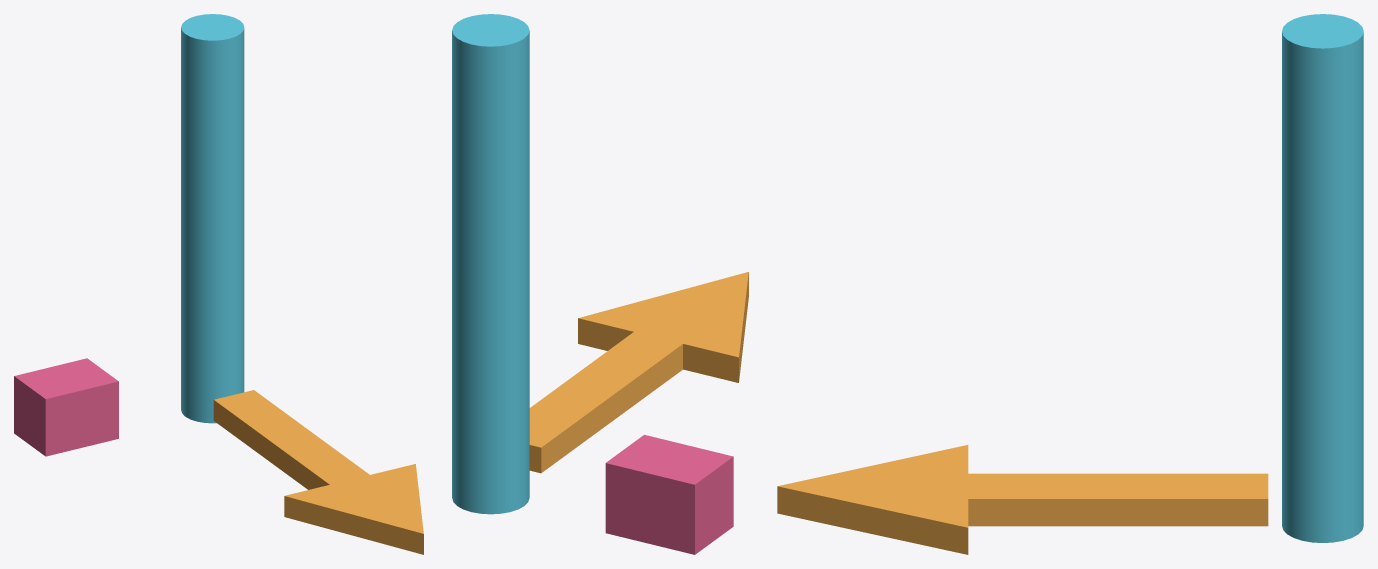
The model's file is axis-marker.glb.
3 views of the same model, side by side, from view 1: azimuth 30°, elevation 25°; view 2: azimuth 150°, elevation 25°; view 3: azimuth 270°, elevation 25° (orthographic). The views are drawn at different scales.
Parts seen in each view (by area): view 1: calibration-post, calibration-forward-arrow, calibration-right-marker; view 2: calibration-post, calibration-forward-arrow, calibration-right-marker; view 3: calibration-post, calibration-forward-arrow.
Boxes of the visible parts, x1,y1,x2,y2 form: calibration-post: (181,14,244,423); calibration-forward-arrow: (213,390,423,554); calibration-right-marker: (14,358,118,456); calibration-post: (452,14,529,514); calibration-forward-arrow: (529,272,748,473); calibration-right-marker: (605,434,733,554); calibration-post: (1282,14,1363,542); calibration-forward-arrow: (777,445,1268,554).
Size of the model in its own units: 0.68 by 1 by 1.08.
